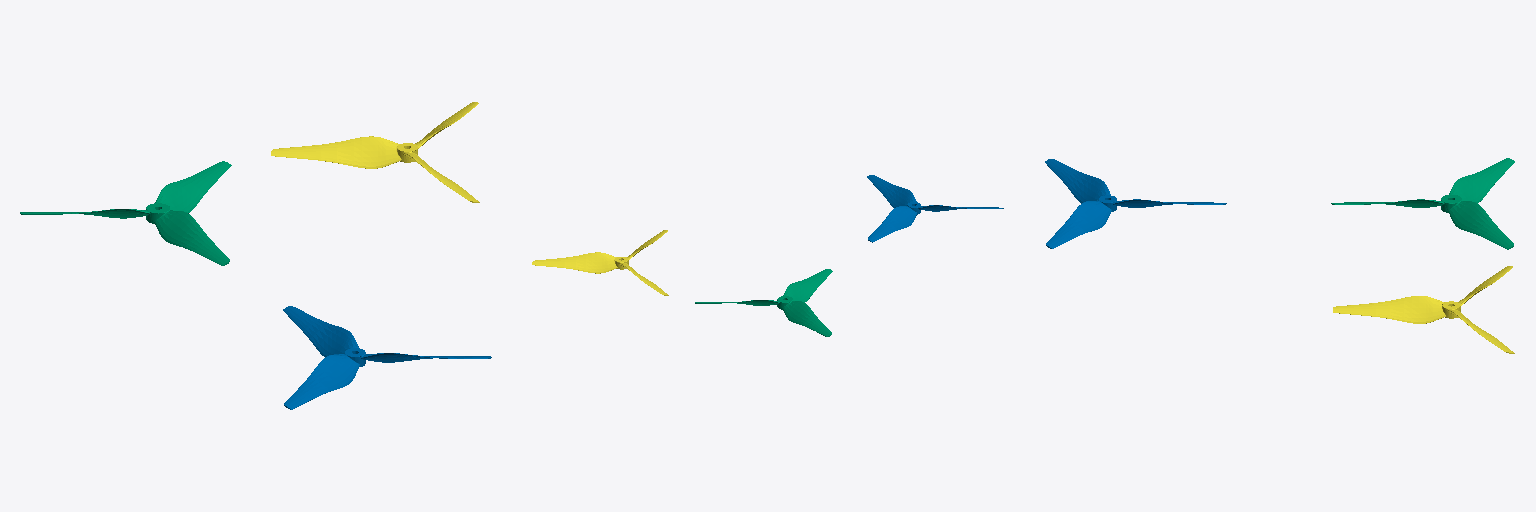
robot.urdf — starling2max:
<?xml version="1.0" encoding="UTF-8"?>
<robot name="starling2max">
  <joint name="joint0" type="continuous">
    <origin xyz="0.095 -0.13 0.0195" rpy="0. 0. 0."/>
    <parent link="vehicle"/>
    <child link="vehicle_rotor0"/>
    <axis xyz="0. 0. 1."/>
  </joint>
  <joint name="joint1" type="continuous">
    <origin xyz="-0.095 0.13 0.0195" rpy="0. 0. 0."/>
    <parent link="vehicle"/>
    <child link="vehicle_rotor1"/>
    <axis xyz="0. 0. 1."/>
  </joint>
  <joint name="joint2" type="continuous">
    <origin xyz="0.095 0.13 0.0195" rpy="0. 0. 0."/>
    <parent link="vehicle"/>
    <child link="vehicle_rotor2"/>
    <axis xyz="0. 0. 1."/>
  </joint>
  <joint name="joint3" type="continuous">
    <origin xyz="-0.095 -0.13 0.0195" rpy="0. 0. 0."/>
    <parent link="vehicle"/>
    <child link="vehicle_rotor3"/>
    <axis xyz="0. 0. 1."/>
  </joint>
  <link name="vehicle">
    <inertial>
      <origin xyz="0.00102 0.00016 0.00741" rpy="0. 0. 0."/>
      <mass value="0.500"/>
      <inertia ixx="0.002943" ixy="0." ixz="0." iyy="0.001857" iyz="0." izz="0.004649"/>
    </inertial>
    <visual>
      <origin xyz="0.095 0.13 0.005" rpy="1.5707963 -0.0000001 1.103188 "/>
      <geometry>
        <mesh filename="vehicle_body_body.obj" scale="1. 1. 1."/>
      </geometry>
    </visual>
    <collision>
      <origin xyz="0.095 0.13 0.005" rpy="1.5707963 -0.0000001 1.103188 "/>
      <geometry>
        <mesh filename="vehicle_body_body.obj" scale="1. 1. 1."/>
      </geometry>
    </collision>
  </link>
  <link name="vehicle_rotor0">
    <inertial>
      <origin xyz="0. 0. 0." rpy="0. 0. 0."/>
      <mass value="0.007"/>
      <inertia ixx="0.000016" ixy="0." ixz="0." iyy="0.000016" iyz="0." izz="0.00003"/>
    </inertial>
    <visual>
      <origin xyz="-0. -0. 0." rpy="1.5707964 0. 1.5707963"/>
      <geometry>
        <mesh filename="vehicle_rotor0_rotor0.obj" scale="1. 1. 1."/>
      </geometry>
    </visual>
    <collision>
      <origin xyz="-0. -0. 0." rpy="1.5707964 0. 1.5707963"/>
      <geometry>
        <mesh filename="vehicle_rotor0_rotor0.obj" scale="1. 1. 1."/>
      </geometry>
    </collision>
  </link>
  <link name="vehicle_rotor1">
    <inertial>
      <origin xyz="0. 0. 0." rpy="0. 0. 0."/>
      <mass value="0.007"/>
      <inertia ixx="0.000016" ixy="0." ixz="0." iyy="0.000016" iyz="0." izz="0.00003"/>
    </inertial>
    <visual>
      <origin xyz="0. 0. -0." rpy="1.5707964 0. -1.5707959"/>
      <geometry>
        <mesh filename="vehicle_rotor1_rotor1.obj" scale="1. 1. 1."/>
      </geometry>
    </visual>
    <collision>
      <origin xyz="0. 0. -0." rpy="1.5707964 0. -1.5707959"/>
      <geometry>
        <mesh filename="vehicle_rotor1_rotor1.obj" scale="1. 1. 1."/>
      </geometry>
    </collision>
  </link>
  <link name="vehicle_rotor2">
    <inertial>
      <origin xyz="0. 0. 0." rpy="0. 0. 0."/>
      <mass value="0.007"/>
      <inertia ixx="0.000016" ixy="0." ixz="0." iyy="0.000016" iyz="0." izz="0.00003"/>
    </inertial>
    <visual>
      <origin xyz="0. -0. 0." rpy="1.5707964 0. -1.5707959"/>
      <geometry>
        <mesh filename="vehicle_rotor2_rotor2.obj" scale="1. 1. 1."/>
      </geometry>
    </visual>
    <collision>
      <origin xyz="0. -0. 0." rpy="1.5707964 0. -1.5707959"/>
      <geometry>
        <mesh filename="vehicle_rotor2_rotor2.obj" scale="1. 1. 1."/>
      </geometry>
    </collision>
  </link>
  <link name="vehicle_rotor3">
    <inertial>
      <origin xyz="0. 0. 0." rpy="0. 0. 0."/>
      <mass value="0.007"/>
      <inertia ixx="0.000016" ixy="0." ixz="0." iyy="0.000016" iyz="0." izz="0.00003"/>
    </inertial>
    <visual>
      <origin xyz="-0. 0. -0." rpy="1.5707964 0. 1.5707963"/>
      <geometry>
        <mesh filename="vehicle_rotor3_rotor3.obj" scale="1. 1. 1."/>
      </geometry>
    </visual>
    <collision>
      <origin xyz="-0. 0. -0." rpy="1.5707964 0. 1.5707963"/>
      <geometry>
        <mesh filename="vehicle_rotor3_rotor3.obj" scale="1. 1. 1."/>
      </geometry>
    </collision>
  </link>
</robot>

--- Render facts (derived) ---
Views: 3 orthographic renders of the robot side by side, from view 1: azimuth 30°, elevation 25°; view 2: azimuth 150°, elevation 25°; view 3: azimuth 270°, elevation 25°.
Model starling2max with 5 links and 4 joints (4 continuous), rooted at vehicle, posed all joints at 0.
Visible links, largest first — view 1: vehicle_rotor1, vehicle_rotor3, vehicle_rotor2; view 2: vehicle_rotor1, vehicle_rotor3, vehicle_rotor2; view 3: vehicle_rotor1, vehicle_rotor3, vehicle_rotor2.
Boxes of the visible links, bbox=[...] form: vehicle_rotor1: bbox=[20, 161, 231, 265]; vehicle_rotor3: bbox=[283, 306, 491, 409]; vehicle_rotor2: bbox=[271, 102, 479, 202]; vehicle_rotor1: bbox=[695, 269, 832, 336]; vehicle_rotor3: bbox=[867, 175, 1003, 242]; vehicle_rotor2: bbox=[532, 230, 668, 295]; vehicle_rotor1: bbox=[1331, 158, 1514, 249]; vehicle_rotor3: bbox=[1045, 159, 1226, 248]; vehicle_rotor2: bbox=[1333, 266, 1514, 353].
Bounding box of the posed robot: 0.3476 × 0.3563 × 0.0153 m (x, y, z).
Meshes: 5 distinct files referenced, 3 mesh visuals loaded (3 OBJ); not drawn: 2 (reference not matched to a file when rendering).
